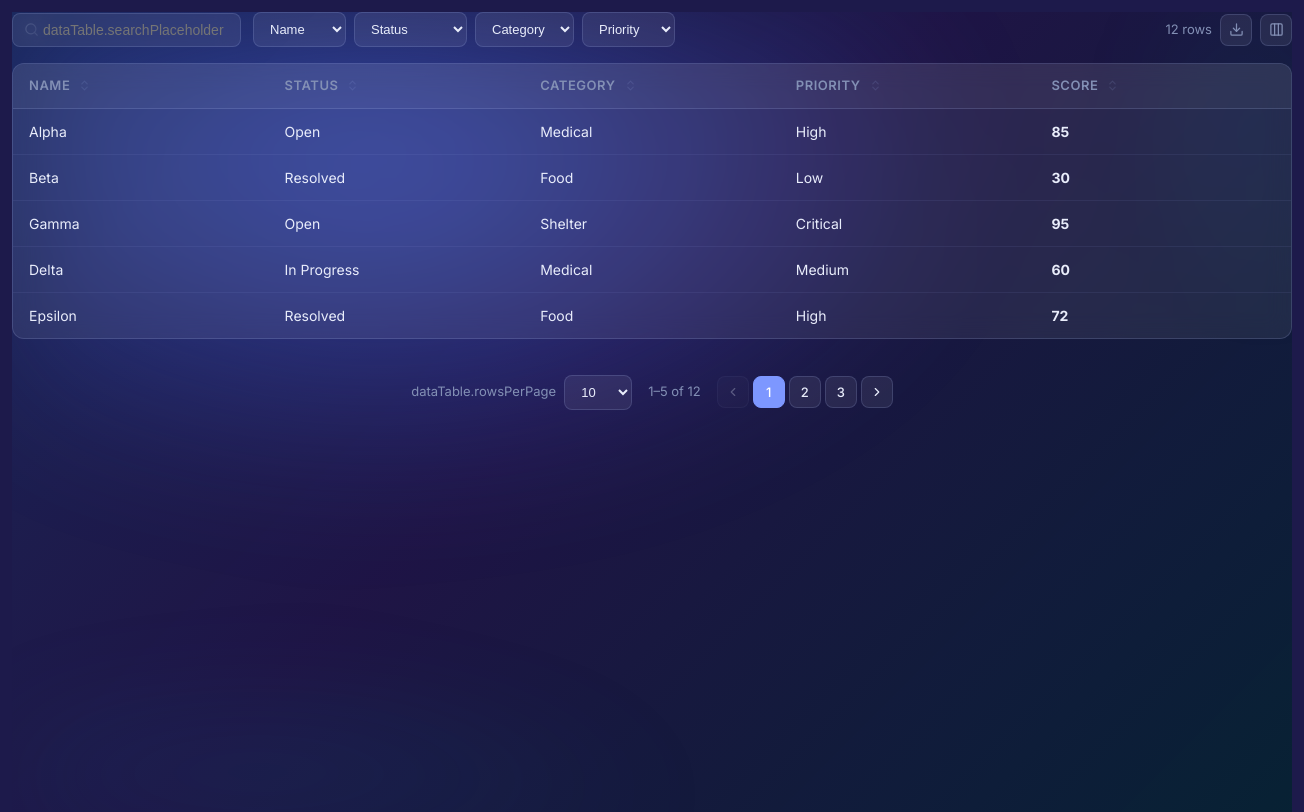
Scenario: DataTable › Pagination › resets to first page when page size changes
Click the button named "dataTable.nextPage". click: click(877, 392)
box: [861,376,893,408]
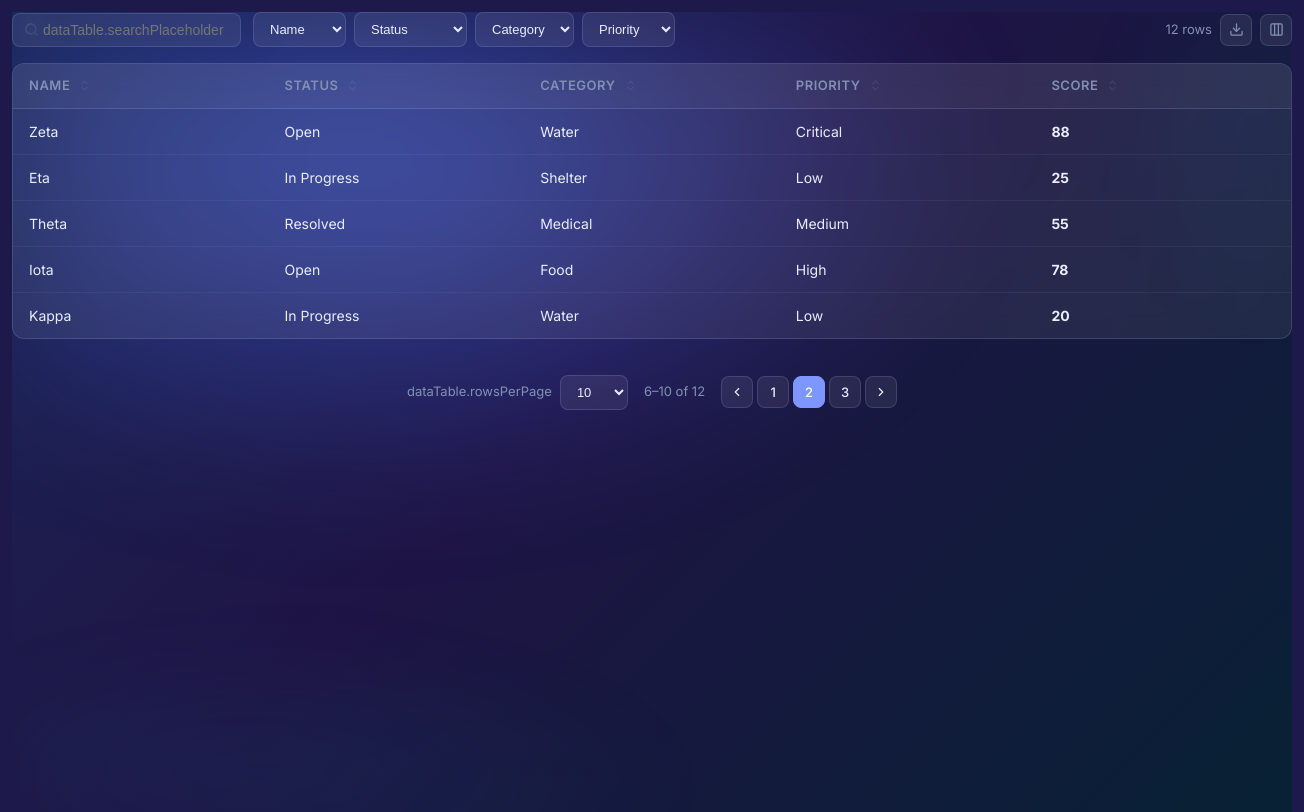
Select "10" in the dropdown named "Rows per page". click: (594, 392)
box: [560,374,628,410]
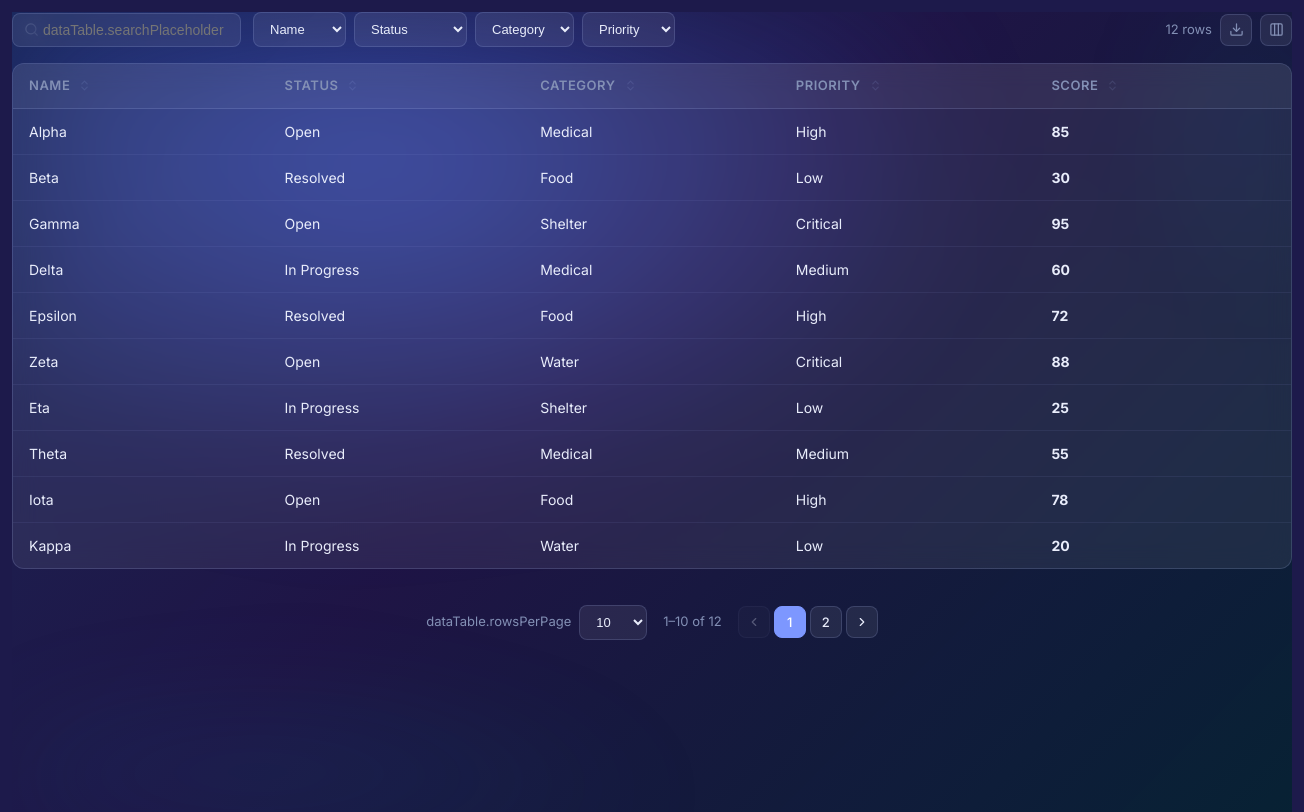
Now the row with class "dt-tr" shows "Alpha", box [29,122,67,140]
